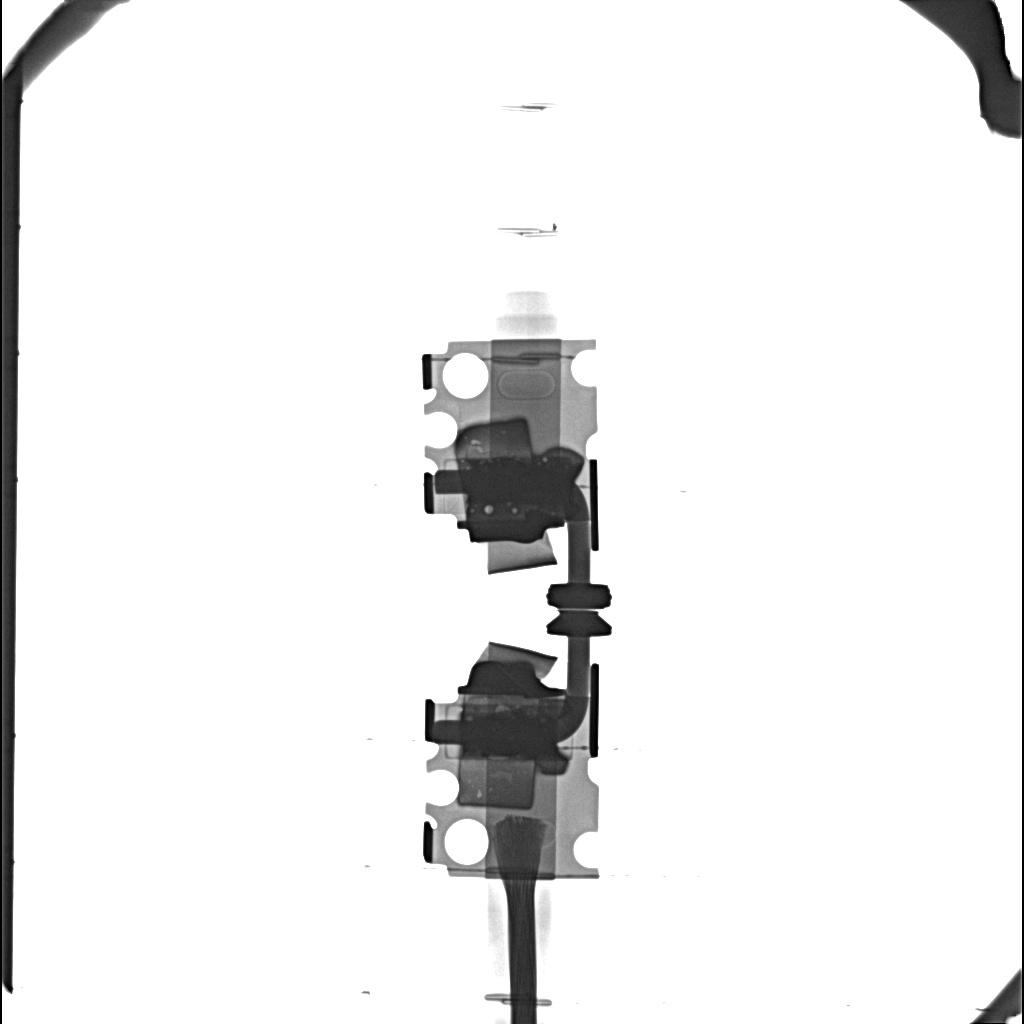defect: (461, 458, 576, 503), (461, 709, 556, 756), (458, 756, 537, 809), (454, 418, 534, 468), (483, 505, 493, 514)
